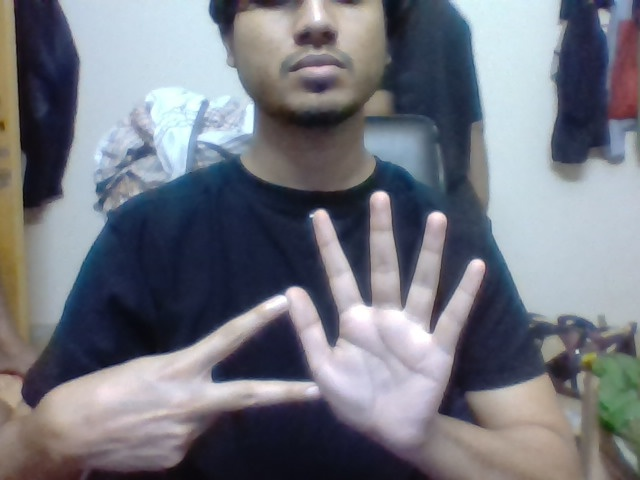N: (201, 287, 286, 420)
